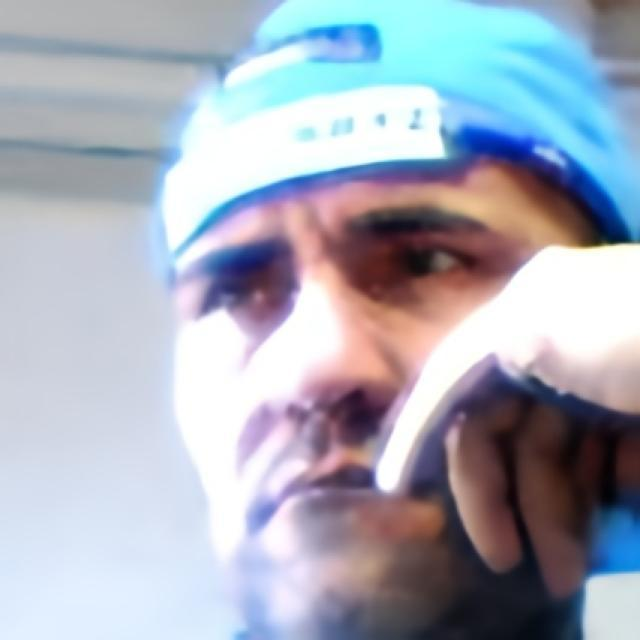anger: (166, 104, 577, 578)
